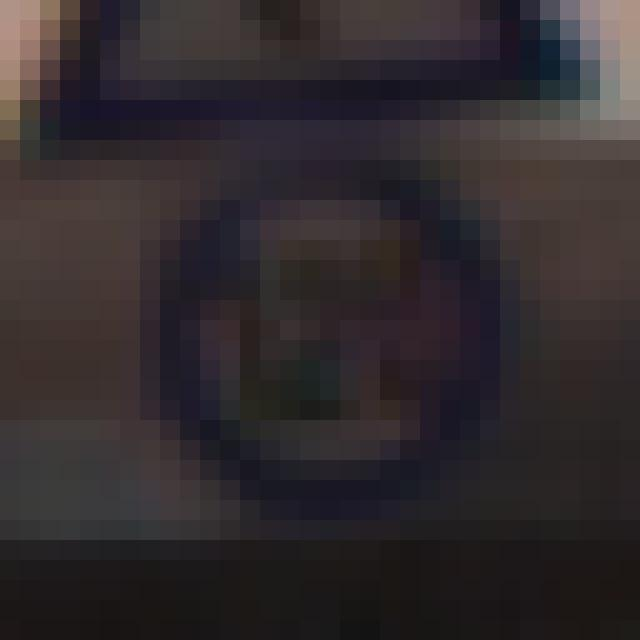SPEED LIMIT 120: (144, 165, 518, 498)
